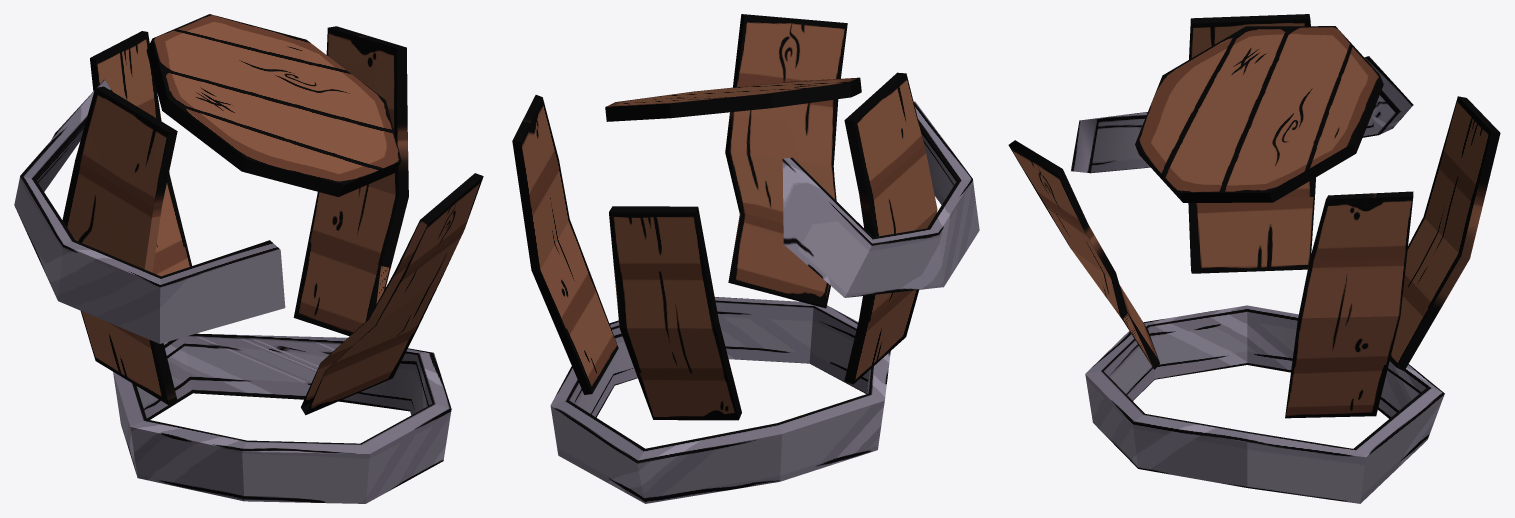
File: barrel rumble.fbx
The picture shows the model from 3 angles, left to right: view 1: azimuth 30°, elevation 25°; view 2: azimuth 150°, elevation 25°; view 3: azimuth 270°, elevation 25°; orthographic projection. The views are drawn at different scales.
Visible parts, largest first — view 1: Barrel rumble.006, Barrel rumble, Barrel rumble.004, Barrel rumble.003, Barrel rumble.001, Barrel rumble.005, Barrel rumble.002; view 2: Barrel rumble.006, Barrel rumble.005, Barrel rumble.002, Barrel rumble.004, Barrel rumble.003, Barrel rumble.001, Barrel rumble; view 3: Barrel rumble, Barrel rumble.006, Barrel rumble.001, Barrel rumble.002, Barrel rumble.003, Barrel rumble.005, Barrel rumble.004.
Part boxes in pixels (x1=…): Barrel rumble.006: x1=113, y1=333, x2=451, y2=503; Barrel rumble: x1=146, y1=14, x2=401, y2=196; Barrel rumble.004: x1=14, y1=79, x2=285, y2=343; Barrel rumble.003: x1=62, y1=86, x2=177, y2=405; Barrel rumble.001: x1=293, y1=26, x2=408, y2=336; Barrel rumble.005: x1=301, y1=173, x2=483, y2=415; Barrel rumble.002: x1=90, y1=31, x2=191, y2=276; Barrel rumble.006: x1=550, y1=297, x2=890, y2=503; Barrel rumble.005: x1=725, y1=14, x2=847, y2=308; Barrel rumble.002: x1=609, y1=206, x2=741, y2=420; Barrel rumble.004: x1=782, y1=101, x2=979, y2=297; Barrel rumble.003: x1=844, y1=72, x2=937, y2=384; Barrel rumble.001: x1=512, y1=95, x2=618, y2=394; Barrel rumble: x1=605, y1=77, x2=861, y2=121; Barrel rumble: x1=1135, y1=26, x2=1383, y2=202; Barrel rumble.006: x1=1085, y1=305, x2=1444, y2=503; Barrel rumble.001: x1=1285, y1=191, x2=1413, y2=418; Barrel rumble.002: x1=1389, y1=96, x2=1500, y2=370; Barrel rumble.003: x1=1188, y1=14, x2=1315, y2=273; Barrel rumble.005: x1=1008, y1=140, x2=1159, y2=369; Barrel rumble.004: x1=1071, y1=56, x2=1413, y2=173.
Bounding box in the file's own units: 117 × 121 × 140.
1 material, 1 textured.
